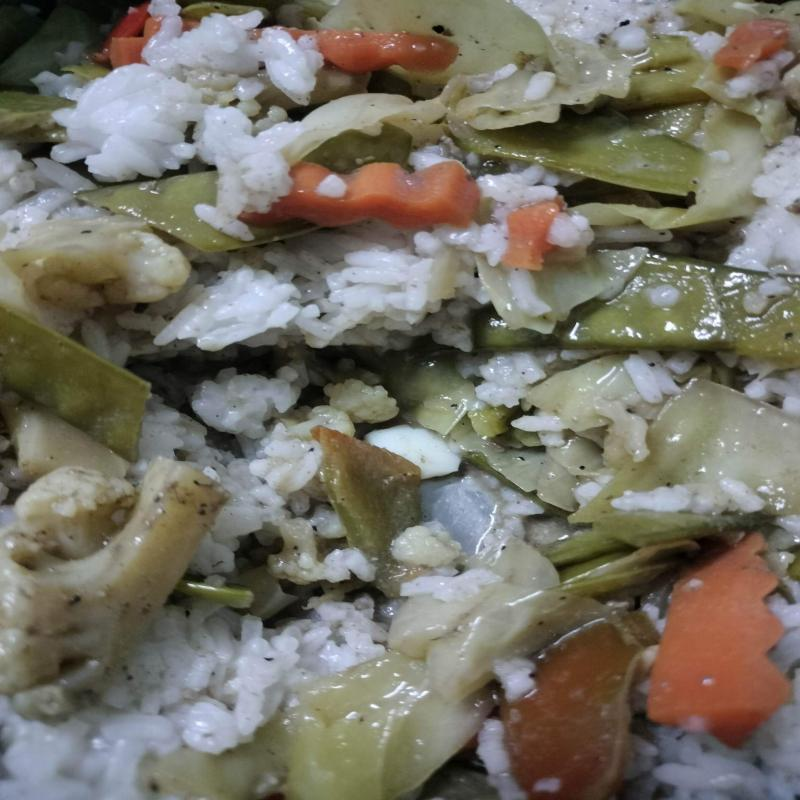left-over food: (83, 163, 796, 362), (1, 0, 562, 240), (322, 2, 800, 277), (283, 533, 699, 798), (116, 349, 462, 656), (0, 582, 391, 799), (449, 347, 799, 563), (0, 457, 230, 725), (602, 510, 799, 800), (0, 139, 188, 337), (473, 610, 661, 800), (370, 351, 590, 509), (368, 423, 555, 571), (246, 159, 484, 228), (91, 167, 254, 253), (89, 169, 249, 255)
